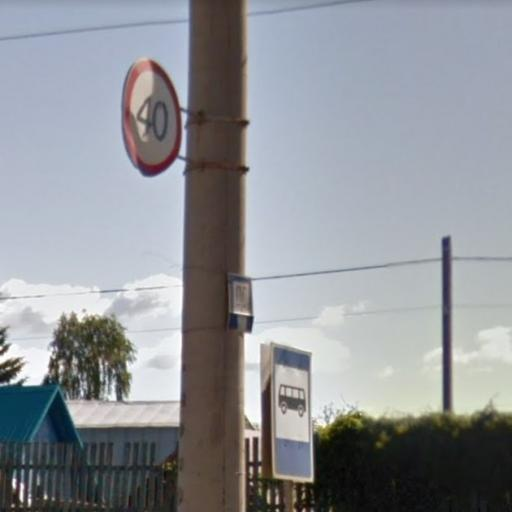traffic_sign: (121, 57, 185, 179), (271, 342, 317, 486)
